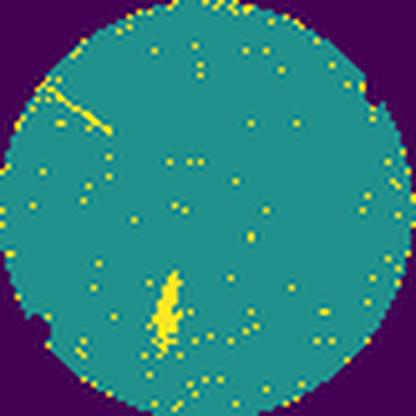Loc: (148, 271, 186, 357)
